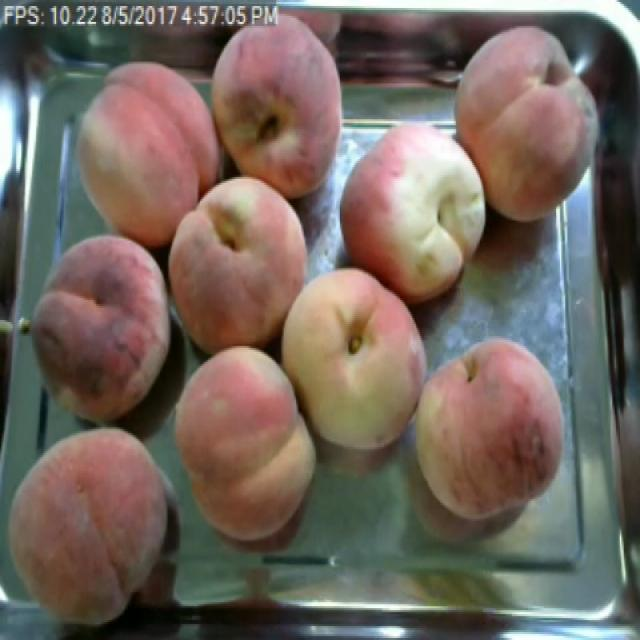Fruit: (2, 413, 185, 640), (432, 8, 612, 238), (400, 328, 579, 533), (328, 113, 507, 316), (267, 253, 440, 461), (15, 221, 178, 441), (166, 336, 330, 550), (70, 52, 238, 254), (199, 8, 356, 215), (164, 167, 323, 366)
